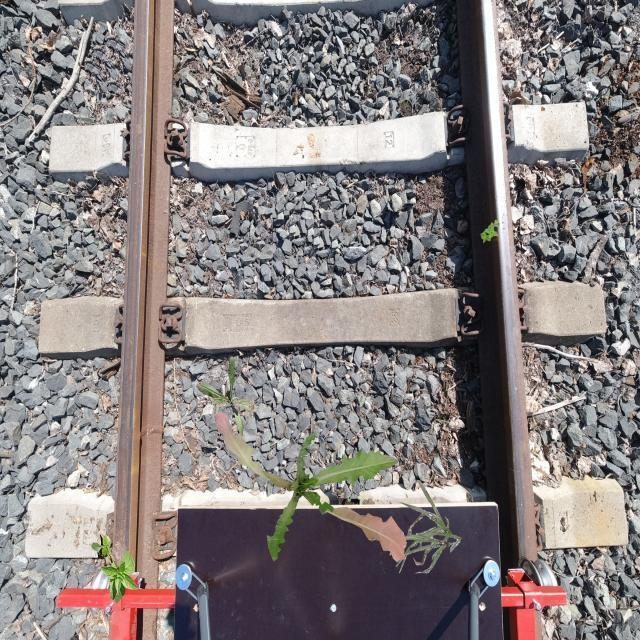Plant: (214, 411, 406, 563), (389, 480, 462, 574), (196, 356, 260, 440), (91, 533, 139, 604), (480, 220, 500, 245)
